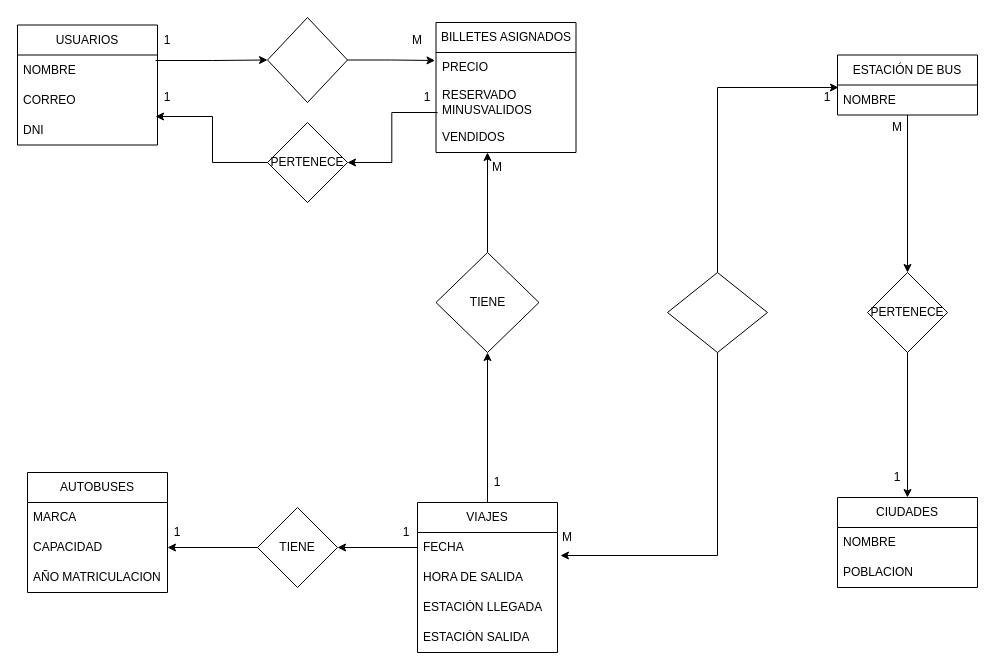
The diagram is 995 pixels wide and 670 high, and some of its shapes have lost their labels. Each missing label, with the centre of its shape:
COMPRADOS: pixel 307 59
CONTIENE: pixel 717 312
